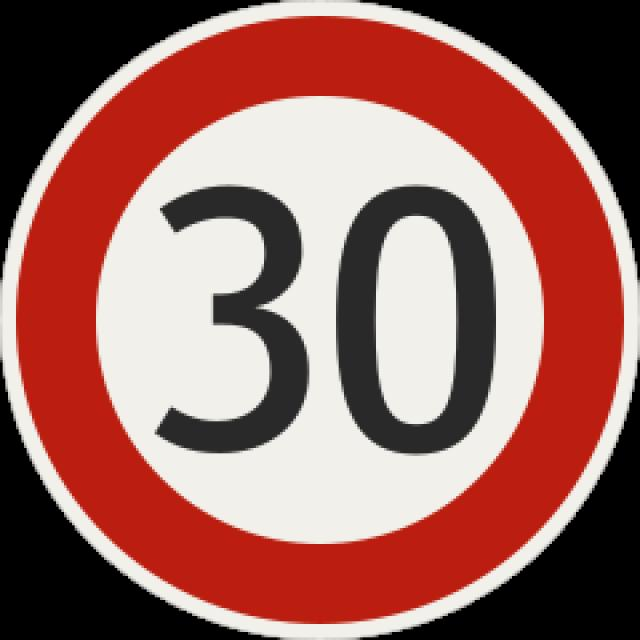Speed Limit 30: (111, 136, 543, 515)
